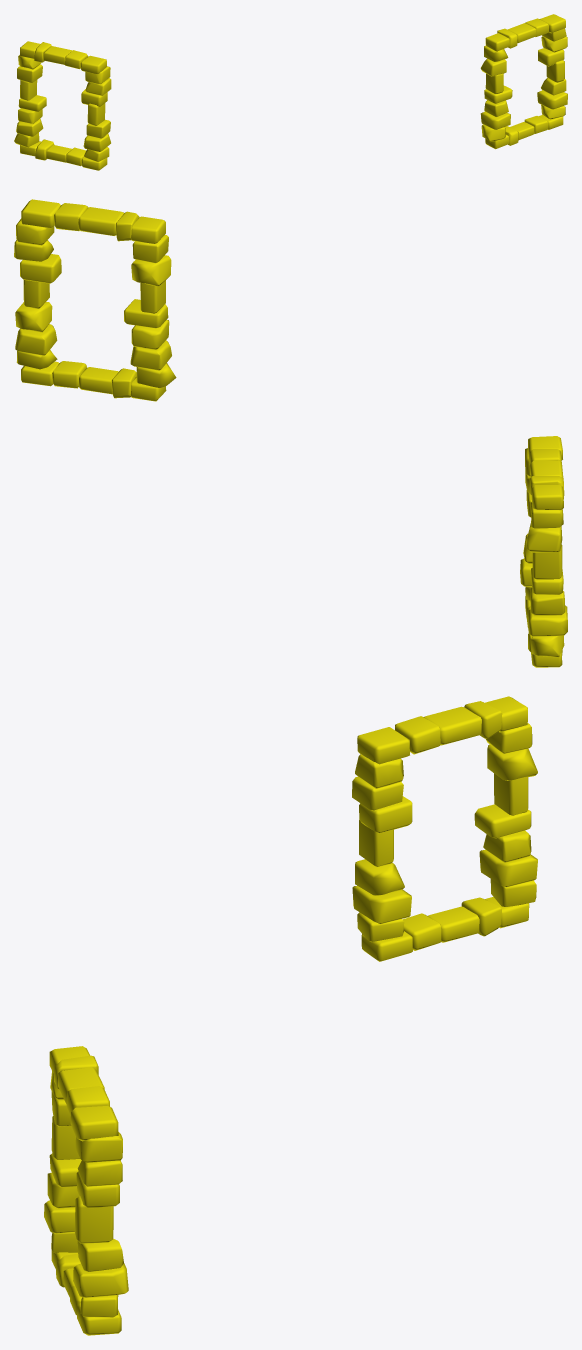
Rendered from Tower_Wall_07_Window.fbx.
3 renders of one model, top to bottom at view 1: azimuth 30°, elevation 25°; view 2: azimuth 150°, elevation 25°; view 3: azimuth 270°, elevation 25°, orthographic. The views are drawn at different scales.
Visible parts, largest first — view 1: Tower_Wall_07_Window; view 2: Tower_Wall_07_Window; view 3: Tower_Wall_07_Window.
Part boxes in pixels (x1=…): Tower_Wall_07_Window: x1=14, y1=14, x2=567, y2=170; Tower_Wall_07_Window: x1=14, y1=199, x2=567, y2=667; Tower_Wall_07_Window: x1=44, y1=696, x2=537, y2=1335.
Bounding box in the file's own units: 951 × 225 × 456.
